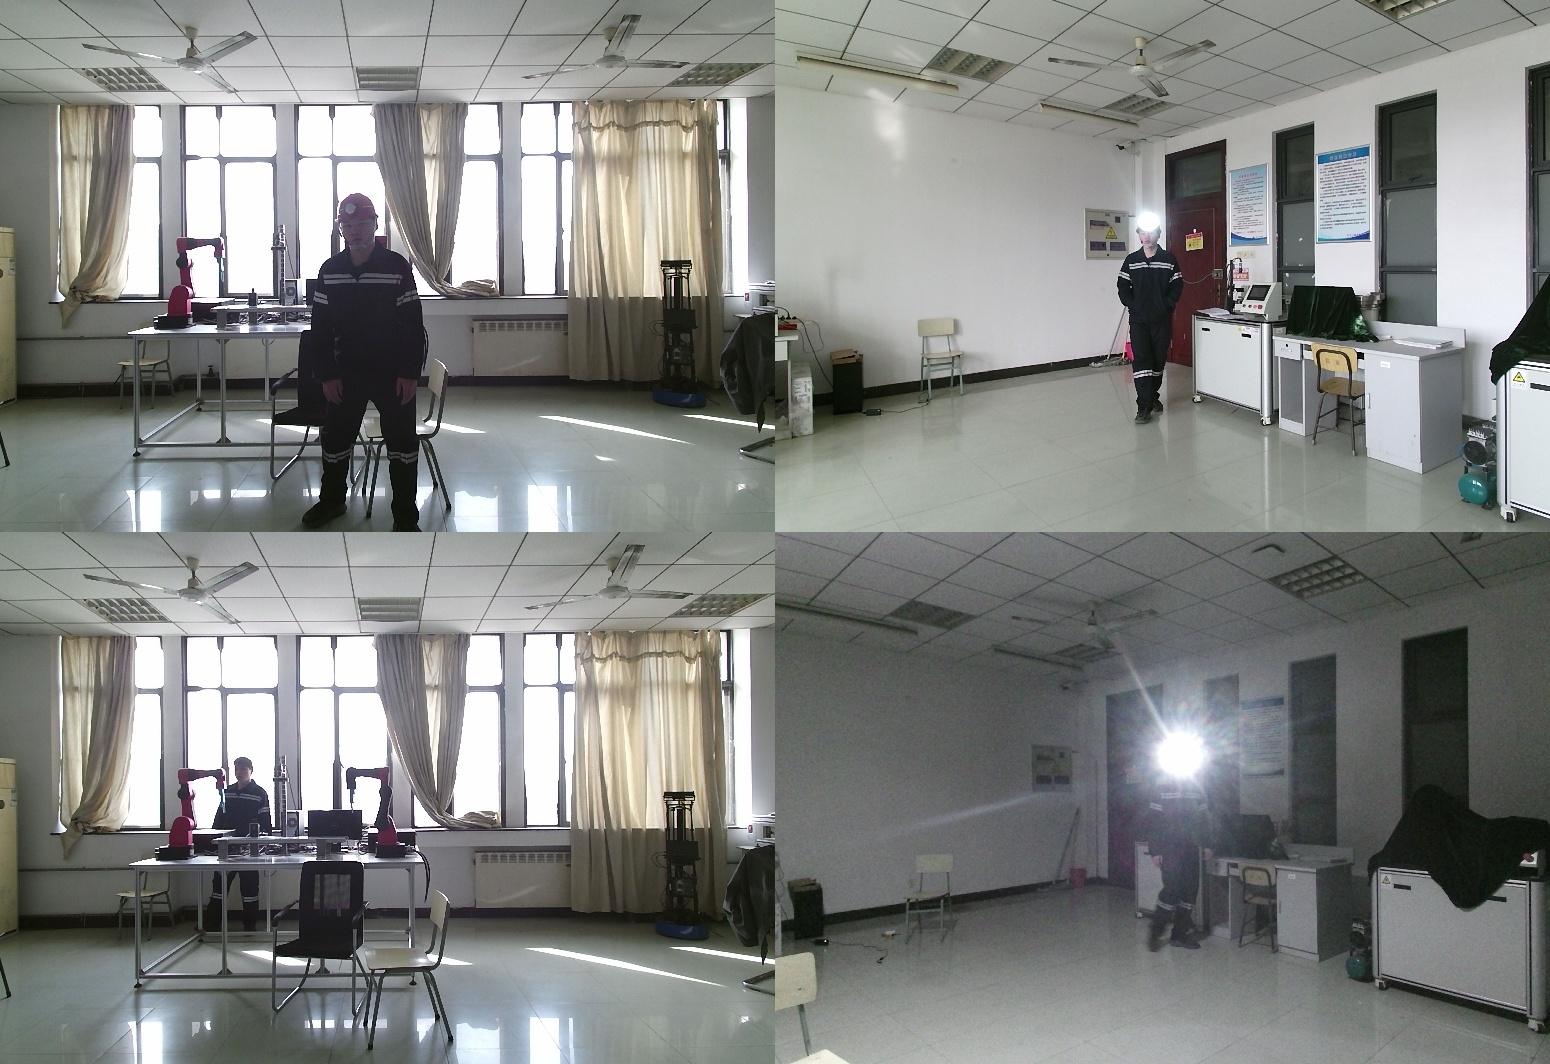person: (303, 191, 440, 532), (1134, 745, 1212, 959), (1114, 221, 1189, 429), (199, 758, 272, 946)
